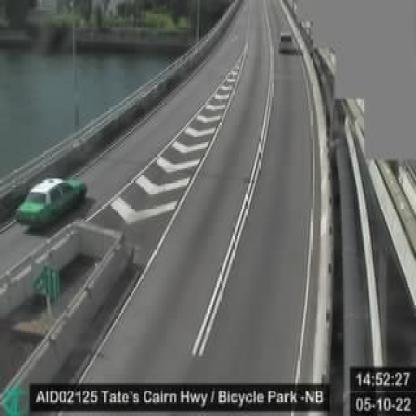Car: (16, 173, 87, 229), (277, 31, 292, 54)
